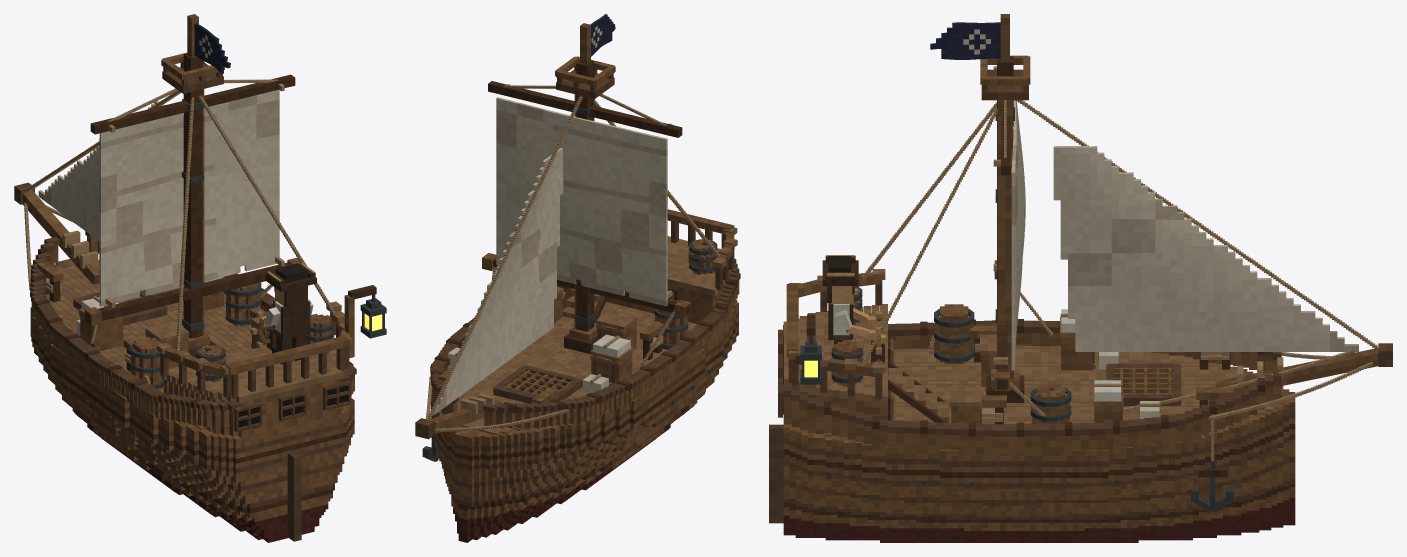
The model's file is trading-sloop.glb.
3 views of the same model, side by side, from view 1: azimuth 30°, elevation 25°; view 2: azimuth 150°, elevation 25°; view 3: azimuth 270°, elevation 25° (orthographic). The views are drawn at different scales.
Visible parts, largest first — view 1: Static hull and fittings, Main sail • billowing patched voxel canvas, Jib • triangular forward canvas, rig_head_mesh, rig_helmsman_mesh, Flag • navy merchant pennant, rig_lantern_mesh; view 2: Static hull and fittings, Main sail • billowing patched voxel canvas, Jib • triangular forward canvas, Flag • navy merchant pennant; view 3: Static hull and fittings, Jib • triangular forward canvas, Main sail • billowing patched voxel canvas, Flag • navy merchant pennant, rig_head_mesh, rig_lantern_mesh.
Boxes of the visible parts, x1,y1,x2,y2 form: Static hull and fittings: [14, 14, 376, 542]; Main sail • billowing patched voxel canvas: [99, 89, 279, 306]; Jib • triangular forward canvas: [38, 100, 163, 240]; rig_head_mesh: [265, 263, 316, 307]; rig_helmsman_mesh: [273, 300, 310, 339]; Flag • navy merchant pennant: [194, 23, 230, 73]; rig_lantern_mesh: [360, 294, 386, 338]; Static hull and fittings: [415, 23, 740, 542]; Main sail • billowing patched voxel canvas: [496, 97, 667, 306]; Jib • triangular forward canvas: [433, 148, 563, 414]; Flag • navy merchant pennant: [591, 14, 615, 56]; Static hull and fittings: [769, 14, 1392, 542]; Jib • triangular forward canvas: [1053, 146, 1358, 351]; Main sail • billowing patched voxel canvas: [1011, 100, 1025, 370]; Flag • navy merchant pennant: [930, 22, 1000, 59]; rig_head_mesh: [822, 255, 858, 304]; rig_lantern_mesh: [800, 335, 821, 384].
Size of the model in its own units: 14.99 by 30.28 by 33.57.
